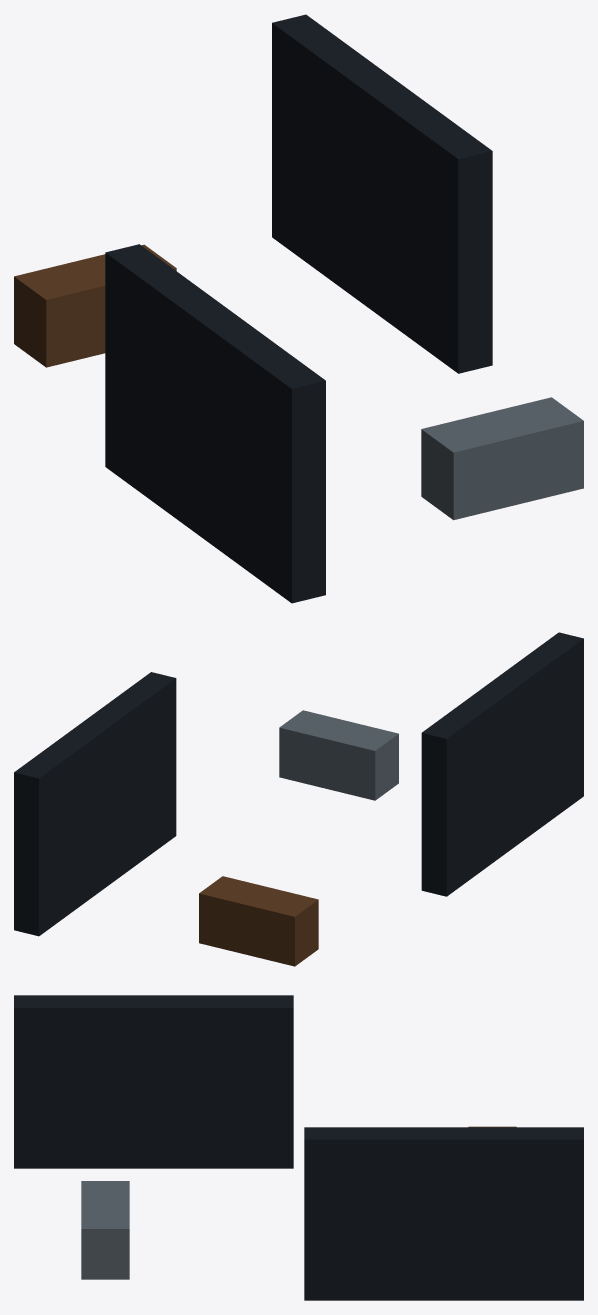
Rendered from module.hallway_staggered_partition.glb.
The picture shows the model from 3 angles, top to bottom: view 1: azimuth 30°, elevation 25°; view 2: azimuth 150°, elevation 25°; view 3: azimuth 270°, elevation 25°; orthographic projection. The views are drawn at different scales.
Parts seen in each view (by area): view 1: partition_a, partition_b, near_cover, far_cover; view 2: partition_a, partition_b, near_cover, far_cover; view 3: partition_a, partition_b, near_cover.
Part boxes in pixels (left/top/right/bottom): partition_a: left=105, top=244, right=325, bottom=603; partition_b: left=272, top=14, right=492, bottom=373; near_cover: left=421, top=397, right=583, bottom=520; far_cover: left=14, top=244, right=176, bottom=367; partition_a: left=421, top=632, right=583, bottom=896; partition_b: left=14, top=672, right=176, bottom=936; near_cover: left=279, top=710, right=398, bottom=800; far_cover: left=199, top=876, right=318, bottom=966; partition_a: left=14, top=995, right=293, bottom=1168; partition_b: left=304, top=1127, right=583, bottom=1300; near_cover: left=81, top=1181, right=129, bottom=1279.
Bounding box in the file's own units: 6.35 × 3.3 × 10.6.
